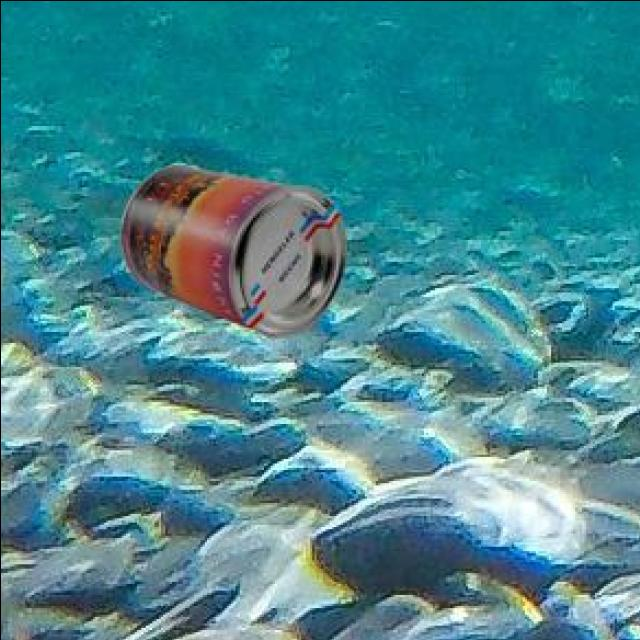logam: (117, 161, 341, 334)
